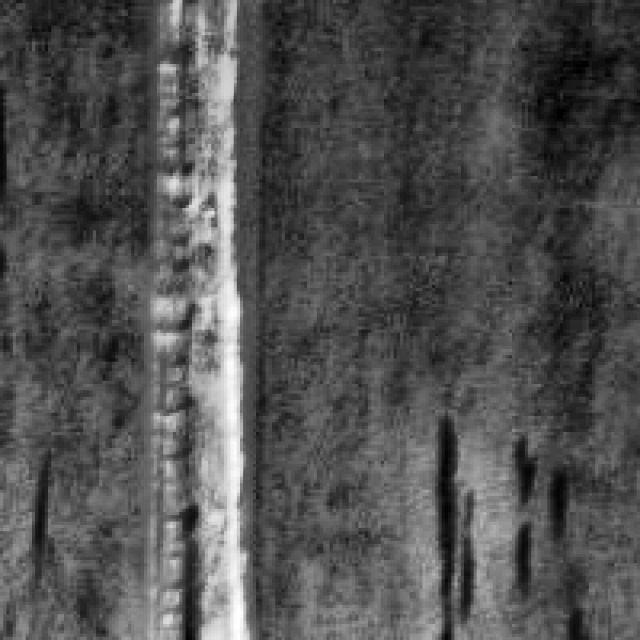Inclusion: (131, 0, 240, 634)
Patches: (422, 410, 477, 614), (506, 426, 566, 586), (19, 460, 61, 570)
